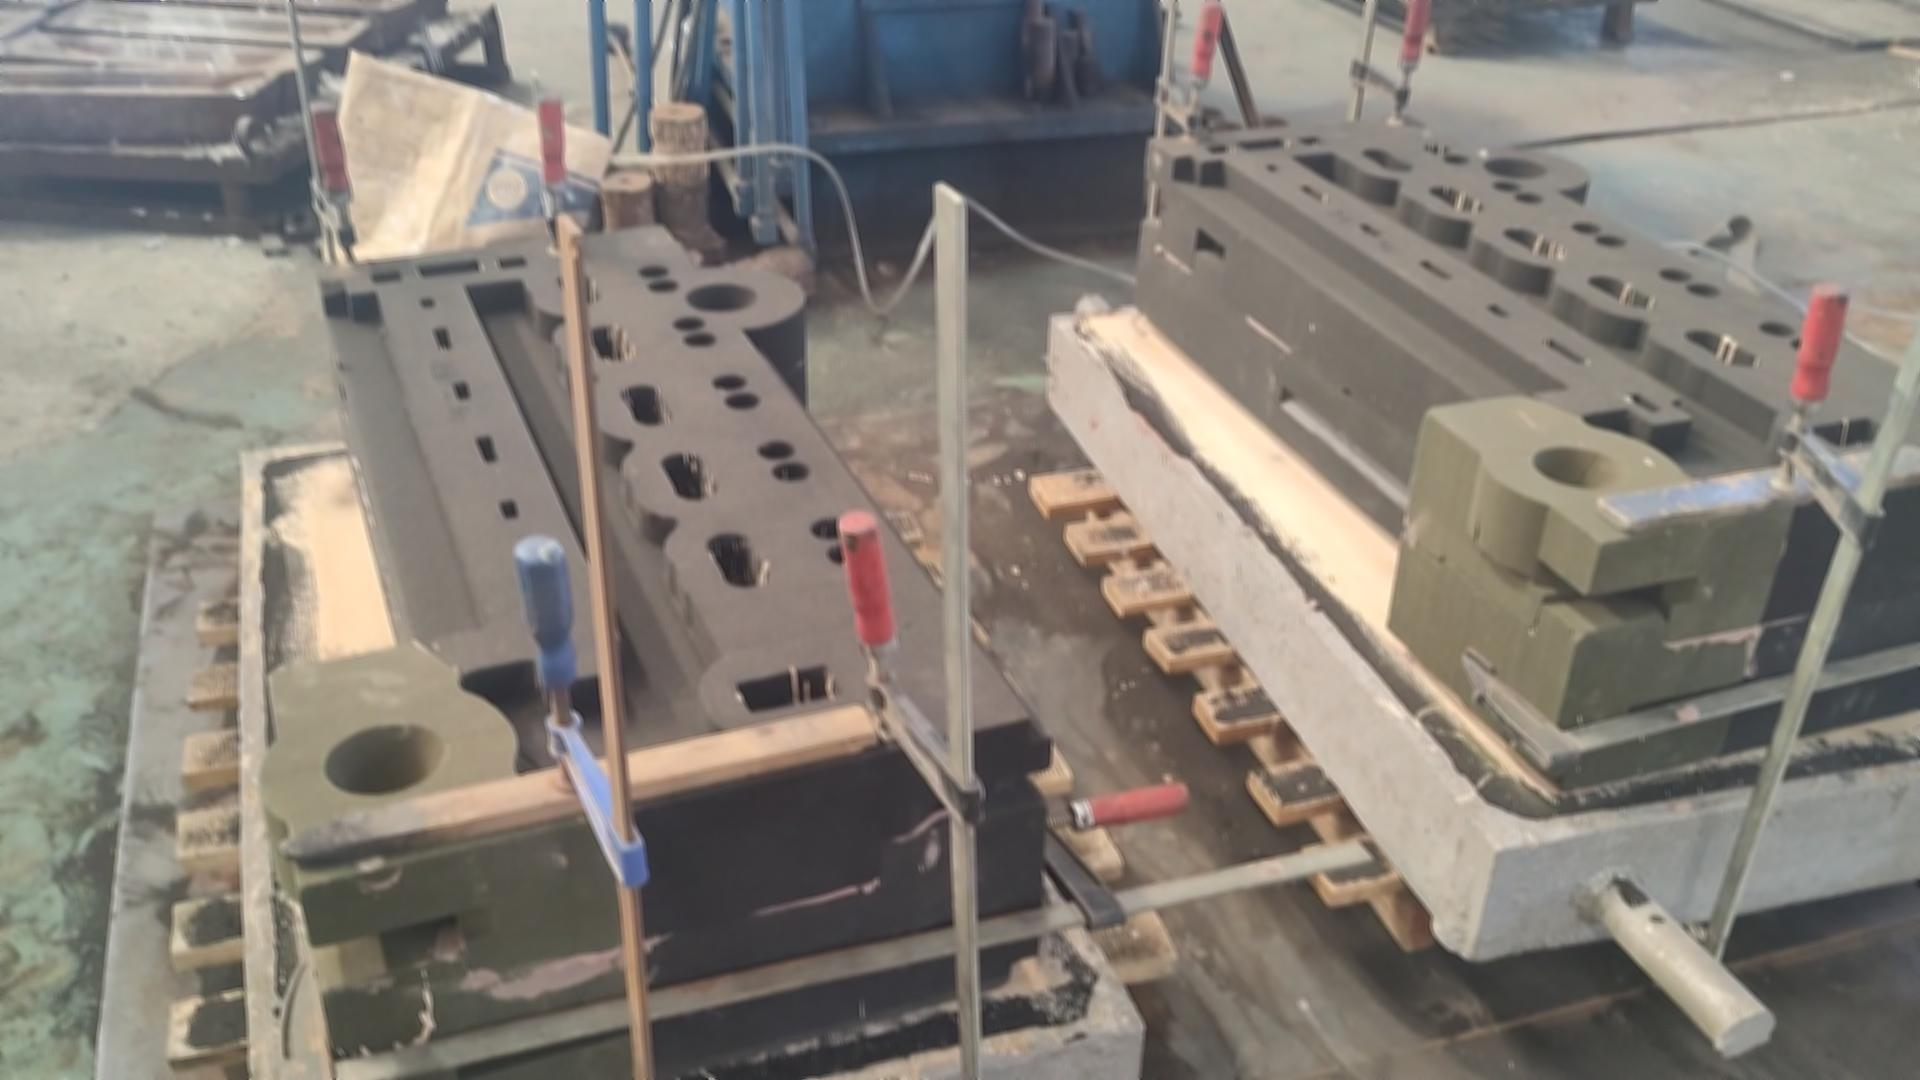pouring hole: (323, 724, 444, 794), (1532, 444, 1625, 489), (684, 282, 757, 310), (1482, 158, 1548, 179), (1249, 113, 1288, 127), (1191, 104, 1222, 115), (1211, 123, 1240, 131)
